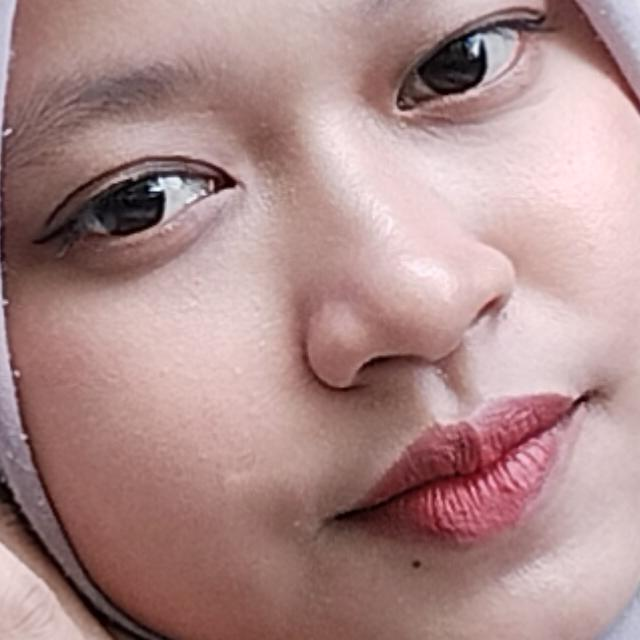tidur: (0, 188, 606, 640)
